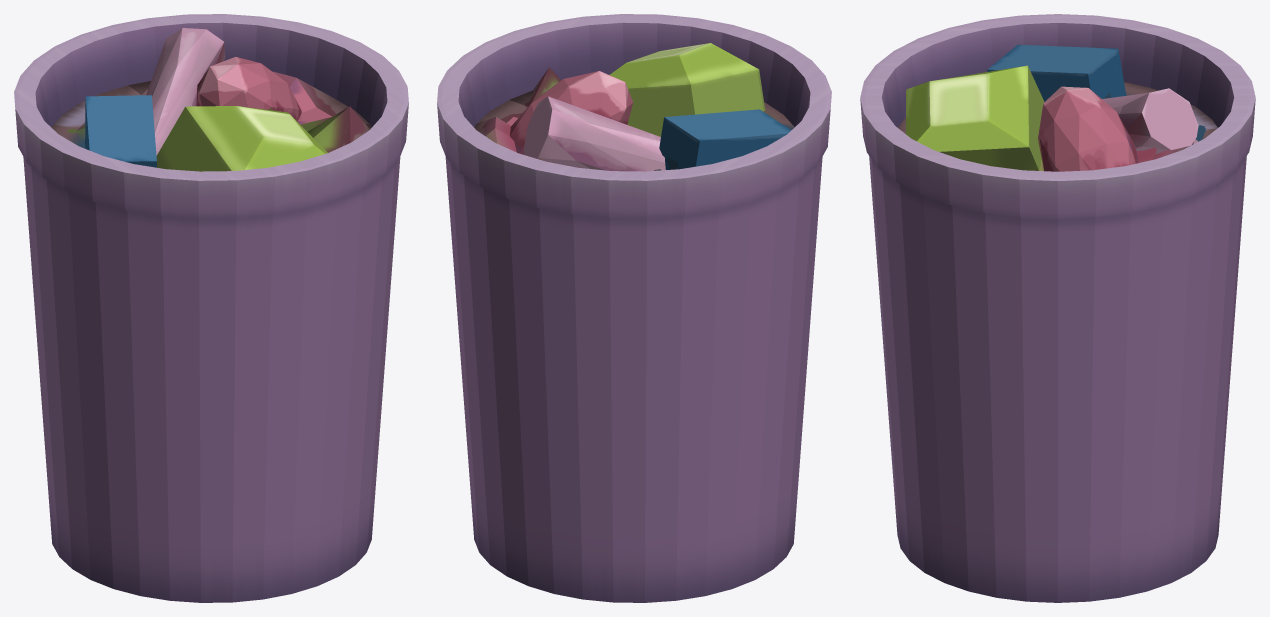
File: bin.fbx
3 views of the same model, side by side, from view 1: azimuth 30°, elevation 25°; view 2: azimuth 150°, elevation 25°; view 3: azimuth 270°, elevation 25° (orthographic).
Visible parts, largest first — view 1: Cylinder; view 2: Cylinder; view 3: Cylinder.
Part boxes in pixels (x1,y1,x2,y2): Cylinder: [14, 14, 408, 602]; Cylinder: [437, 14, 831, 602]; Cylinder: [860, 14, 1255, 602].
Bounding box in the file's own units: 40.94 × 52.79 × 40.94.
Materials: 1 (1 with a texture image).
